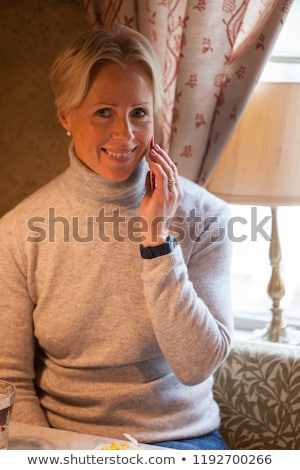phone: (142, 118, 172, 192)
talk: (85, 94, 185, 217)
